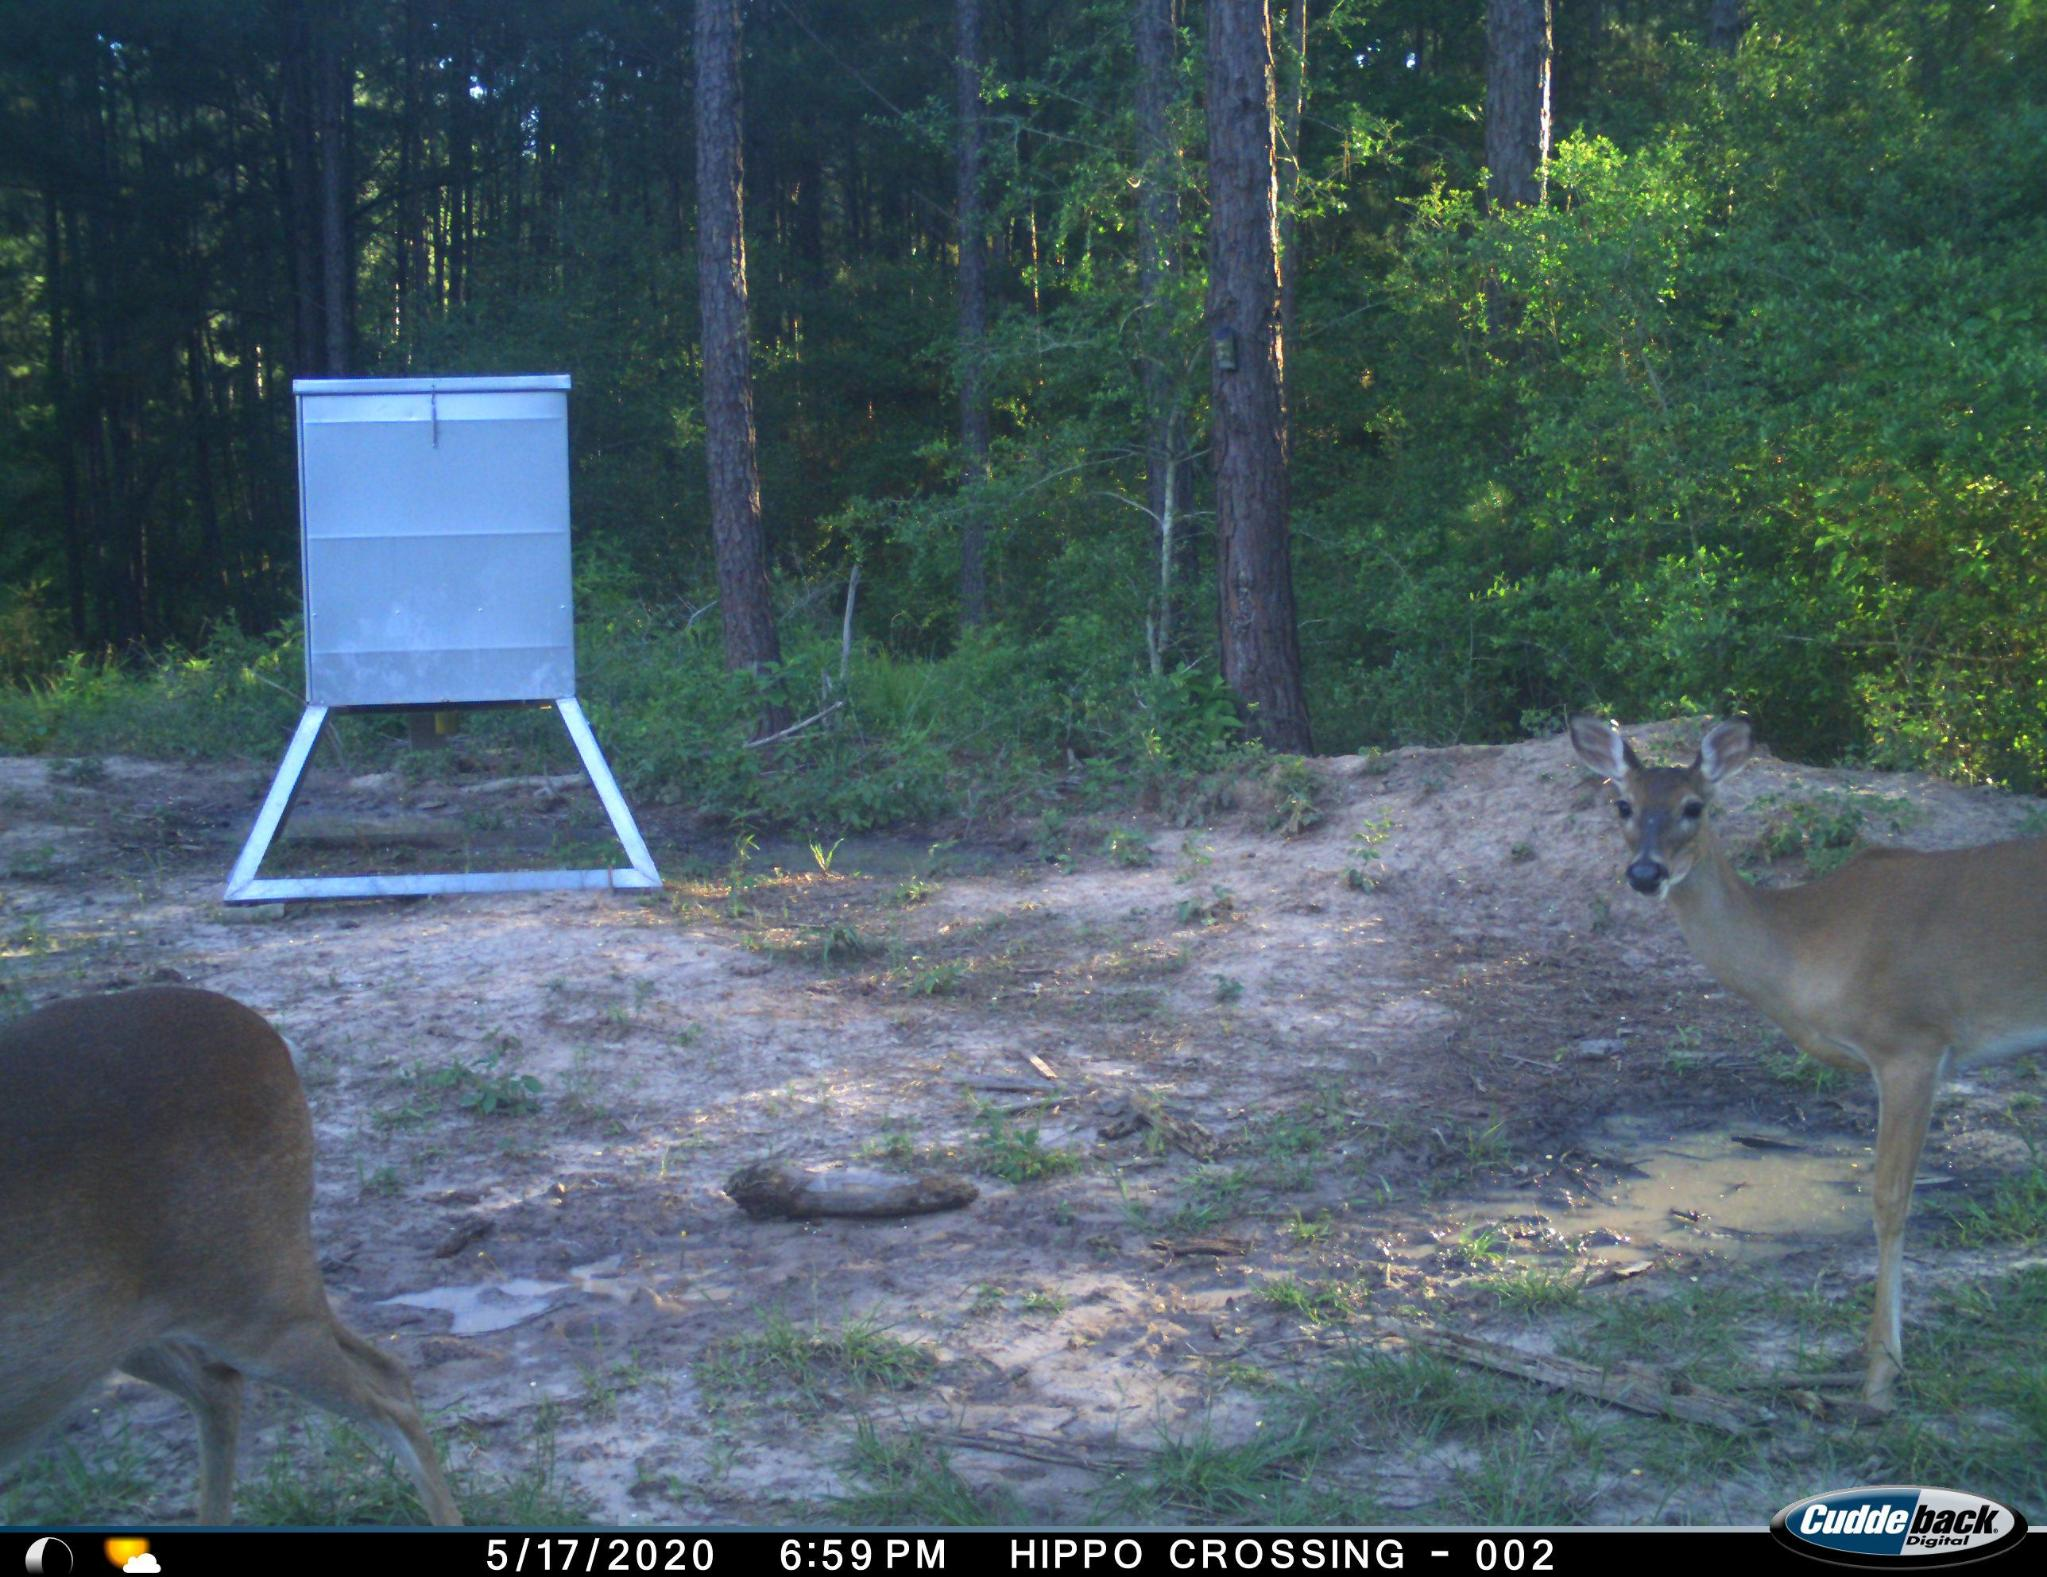Deer: (1561, 702, 2047, 1432), (0, 978, 468, 1524)
